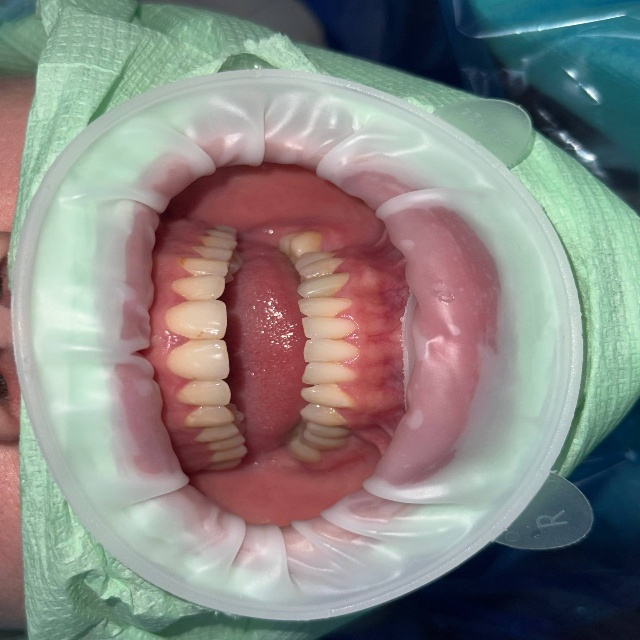clean_tooth: (303, 276, 347, 383), (172, 342, 228, 421), (171, 260, 226, 335), (15, 318, 32, 375), (304, 384, 341, 404)
plaque: (504, 408, 639, 564), (439, 0, 526, 96), (295, 0, 382, 58)
